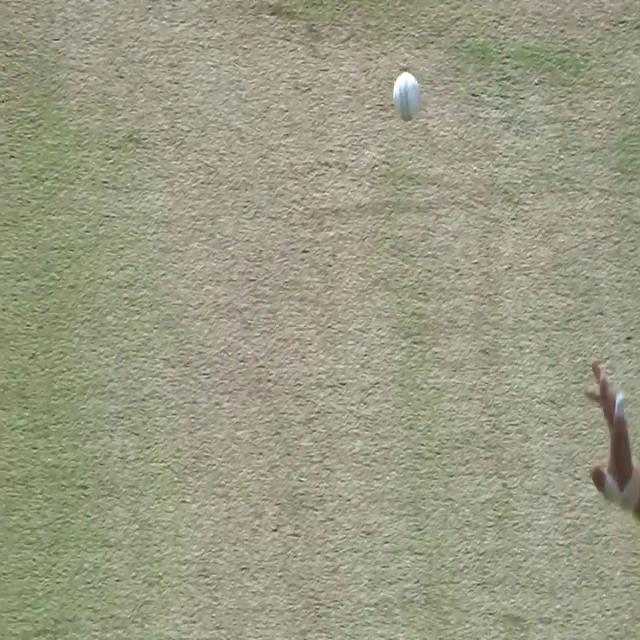ball: (391, 70, 421, 124)
